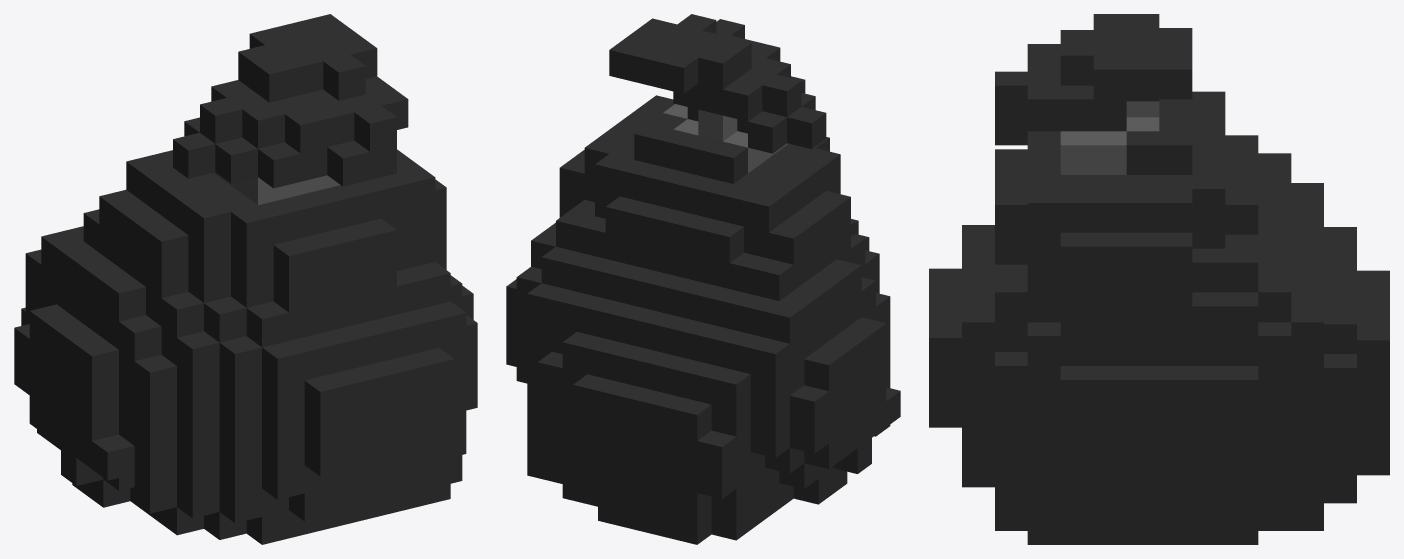
Rendered from TrashBag.fbx.
The picture shows the model from 3 angles, left to right: view 1: azimuth 30°, elevation 25°; view 2: azimuth 150°, elevation 25°; view 3: azimuth 270°, elevation 25°; orthographic projection. The views are drawn at different scales.
Visible parts, largest first — view 1: Untitled.008; view 2: Untitled.008; view 3: Untitled.008.
Part boxes in pixels (x1=…): Untitled.008: x1=14, y1=14, x2=477, y2=544; Untitled.008: x1=506, y1=14, x2=900, y2=544; Untitled.008: x1=929, y1=14, x2=1389, y2=544.
Bounding box in the file's own units: 130 × 150 × 140.
Materials: 1 (1 with a texture image).
